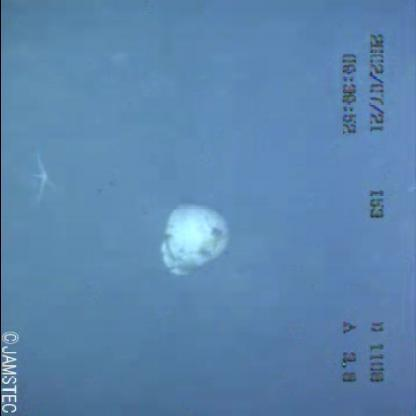Rác: (158, 179, 240, 290)
